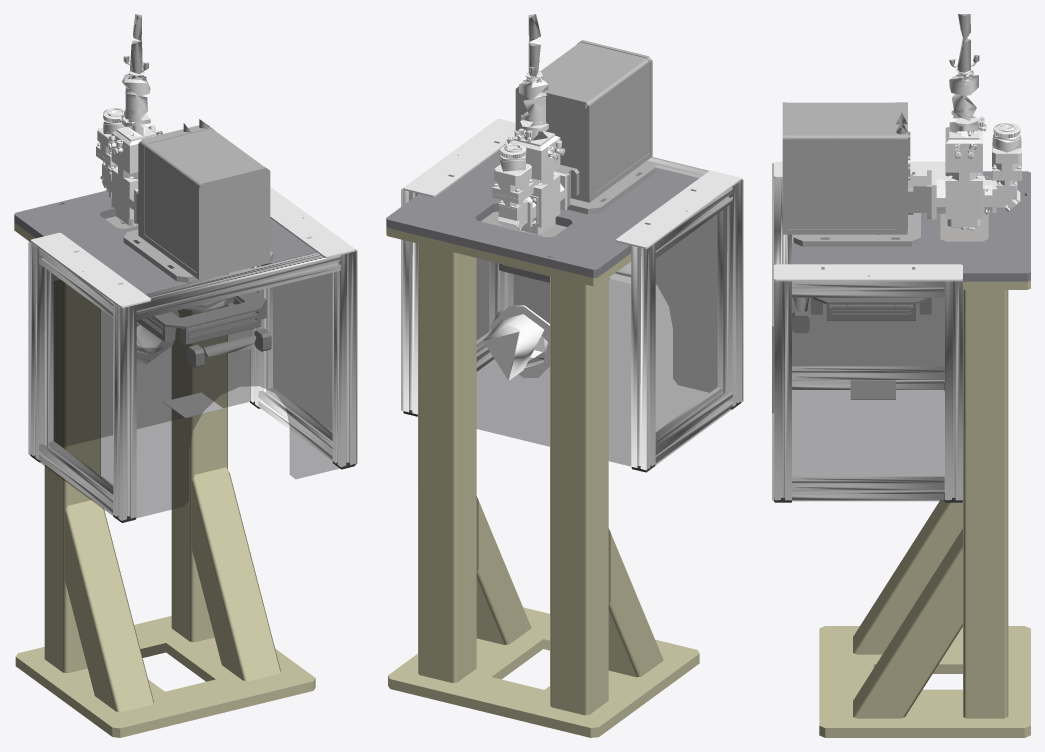
Rendered from laser-scan-head.glb.
3 views of the same model, side by side, from view 1: azimuth 30°, elevation 25°; view 2: azimuth 150°, elevation 25°; view 3: azimuth 270°, elevation 25° (orthographic). The views are drawn at different scales.
Parts seen in each view (by area): view 1: part5, part1, part3, part4, part0; view 2: part1, part3, part5, part4, part0; view 3: part1, part5, part3, part4, part0, part2.
Part boxes in pixels (left/top/right/bottom): part5: left=28, top=241, right=357, bottom=521; part1: left=14, top=223, right=315, bottom=737; part3: left=30, top=71, right=355, bottom=520; part4: left=123, top=14, right=273, bottom=418; part0: left=14, top=190, right=316, bottom=294; part1: left=386, top=226, right=699, bottom=737; part3: left=403, top=71, right=741, bottom=470; part5: left=401, top=157, right=743, bottom=470; part4: left=499, top=14, right=655, bottom=359; part0: left=386, top=149, right=698, bottom=277; part1: left=819, top=280, right=1030, bottom=737; part5: left=772, top=163, right=962, bottom=500; part3: left=774, top=68, right=1021, bottom=500; part4: left=782, top=14, right=979, bottom=399; part0: left=792, top=171, right=1030, bottom=281; part2: left=940, top=212, right=988, bottom=241.
Bounding box in the file's own units: 0.468 × 1.22 × 0.428.
